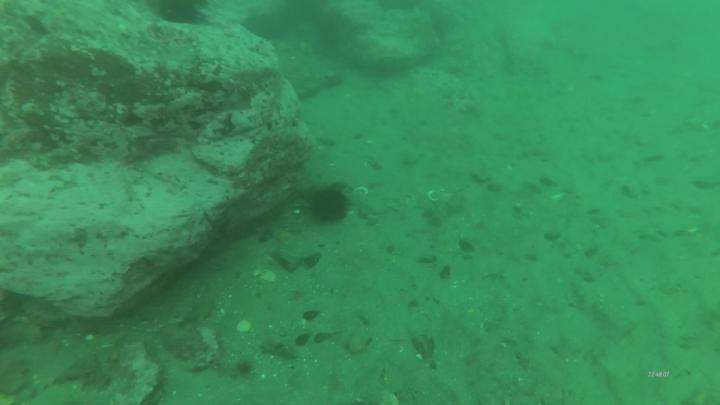echinus: (307, 187, 353, 227), (154, 1, 208, 29)
holothurian: (56, 339, 161, 405), (158, 318, 225, 376), (18, 297, 71, 334)
